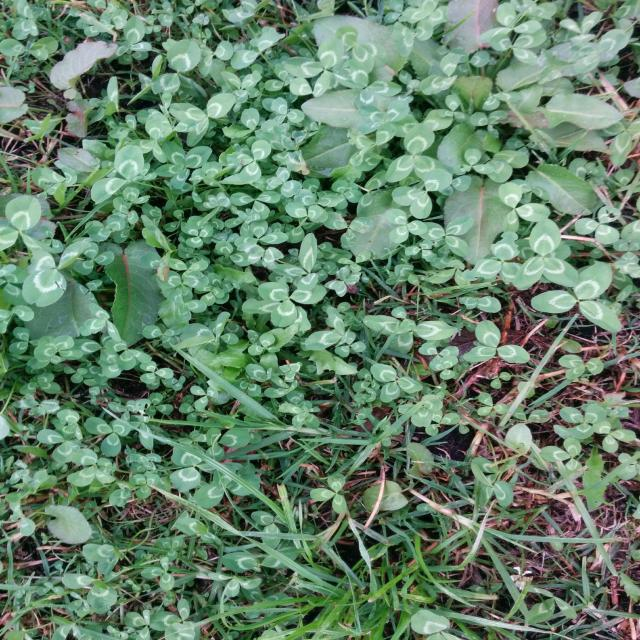Four Leaf Clover: (154, 141, 212, 189)
